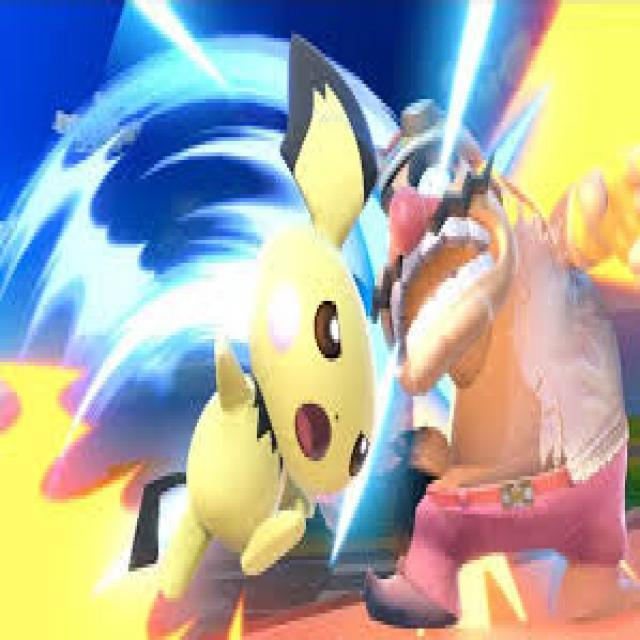pichu: (125, 100, 379, 587)
